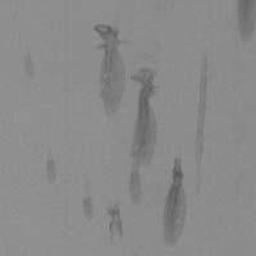Oil spot: (91, 22, 159, 206), (160, 55, 210, 250), (104, 198, 125, 247), (236, 0, 256, 45), (45, 146, 59, 186), (23, 45, 36, 82), (81, 193, 96, 224)
